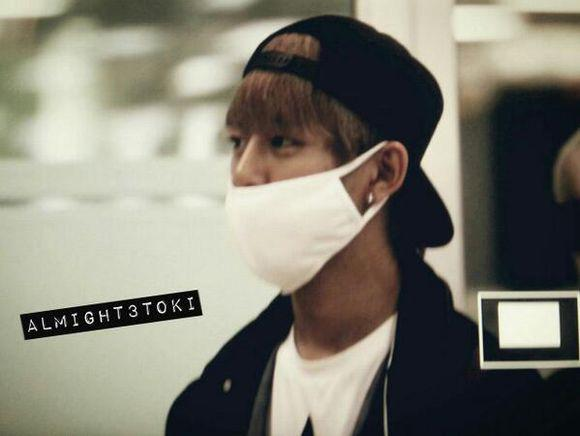WRONG: (228, 120, 368, 279)
